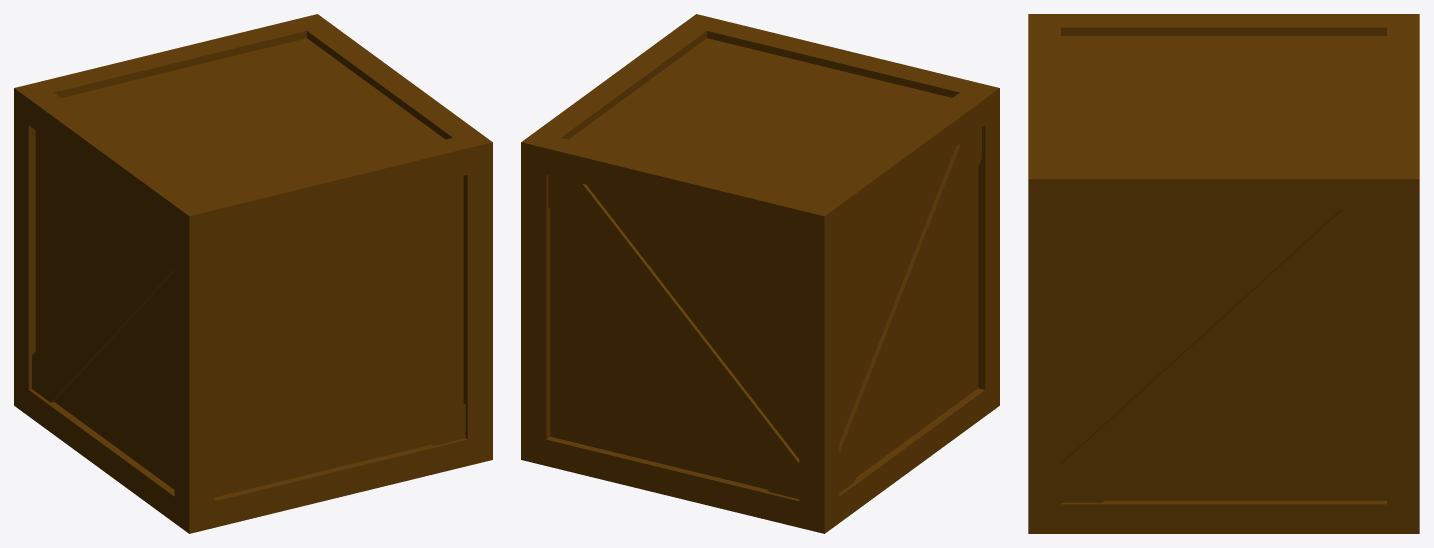
Rendered from WoodenBox.fbx.
3 renders of one model, left to right at view 1: azimuth 30°, elevation 25°; view 2: azimuth 150°, elevation 25°; view 3: azimuth 270°, elevation 25°, orthographic. The views are drawn at different scales.
Parts seen in each view (by area): view 1: Cube; view 2: Cube; view 3: Cube.
Part boxes in pixels (bbox=[...]): Cube: bbox=[14, 14, 492, 533]; Cube: bbox=[521, 14, 999, 533]; Cube: bbox=[1028, 14, 1419, 533].
Size of the model in its own units: 200 by 200 by 200.
